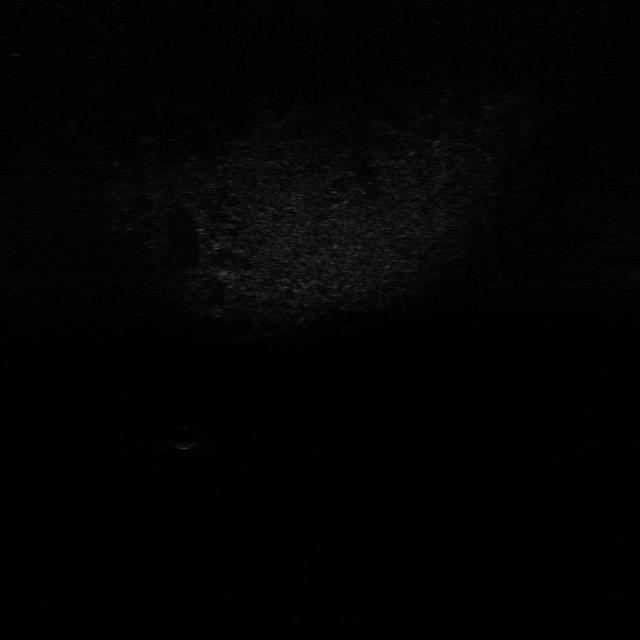ball: (163, 426, 208, 452)
